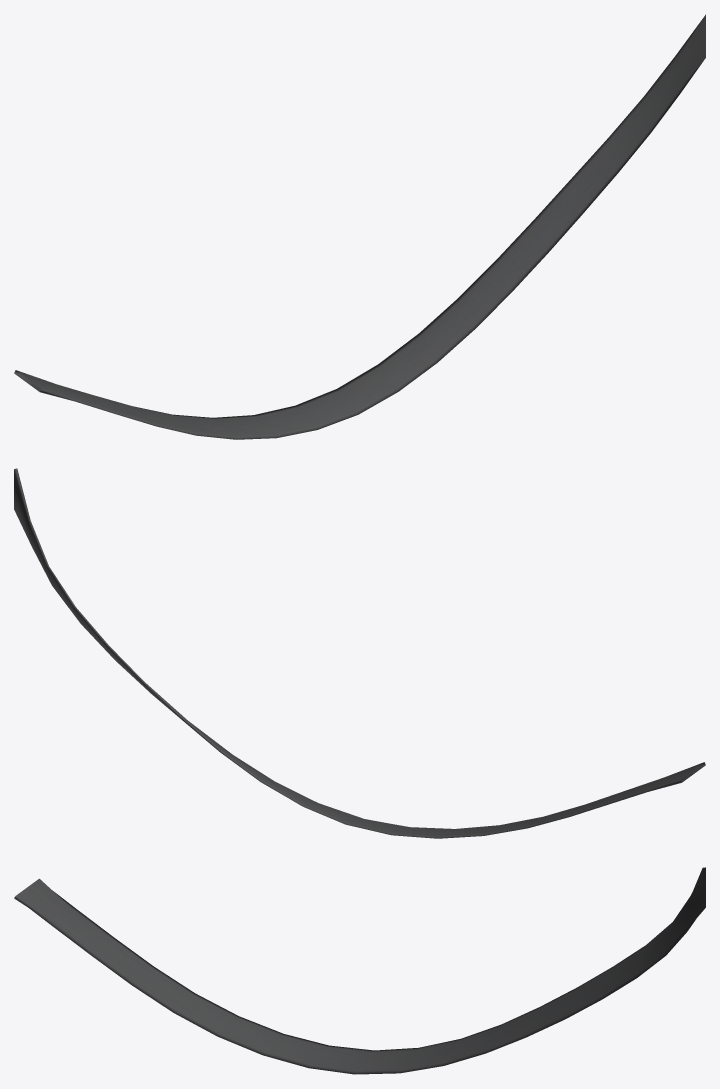
Rendered from Sling.dae.
3 views of the same model, one above another, from view 1: azimuth 30°, elevation 25°; view 2: azimuth 150°, elevation 25°; view 3: azimuth 330°, elevation 25° (orthographic). The views are drawn at different scales.
Visible parts, largest first — view 1: Sling; view 2: Sling; view 3: Sling.
Part boxes in pixels (<box>): Sling: <box>14,14,705,439</box>; Sling: <box>14,468,705,838</box>; Sling: <box>14,867,705,1074</box>.
Size of the model in its own units: 0.5262 by 0.0738 by 0.2151.
